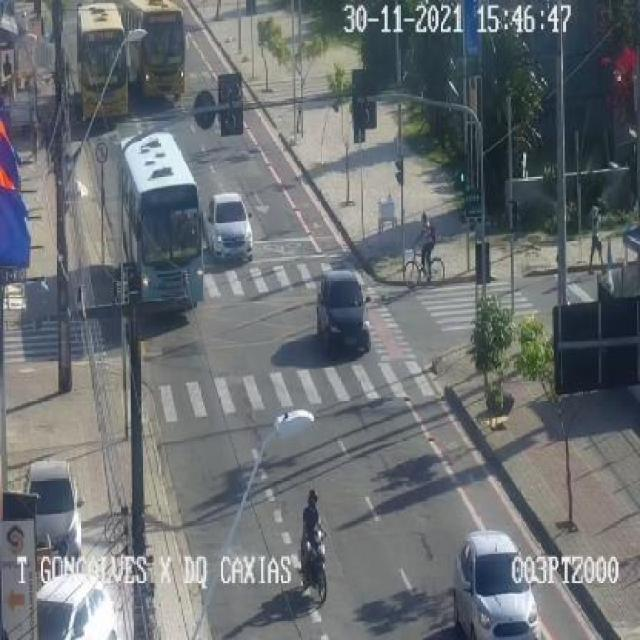Bus: (113, 132, 201, 313), (75, 6, 130, 120), (136, 2, 188, 98)
Car: (458, 526, 541, 640), (29, 569, 116, 640), (26, 460, 84, 558), (318, 271, 378, 357), (205, 194, 252, 265)
Cycle: (292, 488, 336, 600), (401, 202, 453, 284)
